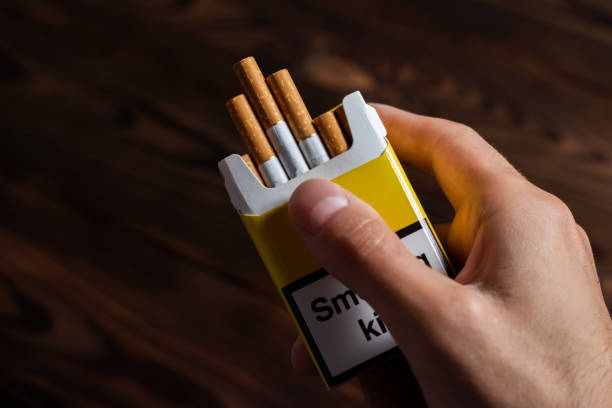cigarette: (219, 51, 455, 391), (231, 56, 310, 180), (264, 67, 330, 168), (224, 93, 289, 188), (313, 109, 349, 158), (333, 102, 357, 149), (240, 153, 267, 188)
